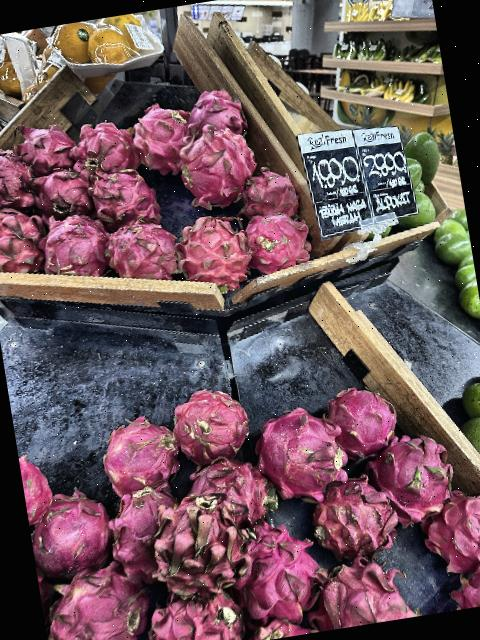buah-naga-matang: (148, 494, 261, 607), (75, 398, 189, 503), (252, 396, 354, 510), (230, 520, 330, 626), (174, 449, 286, 538), (362, 436, 462, 532), (30, 487, 121, 582), (306, 376, 404, 462), (306, 476, 402, 563), (174, 118, 264, 209), (99, 212, 194, 298), (174, 208, 260, 302), (166, 375, 252, 469), (48, 566, 153, 640), (107, 488, 186, 580), (85, 162, 173, 238), (65, 104, 141, 184), (36, 210, 115, 284), (123, 96, 195, 176), (241, 204, 320, 276), (419, 492, 480, 578), (232, 158, 304, 225), (29, 154, 99, 222), (0, 200, 50, 282), (10, 122, 77, 183), (190, 78, 248, 140), (0, 137, 40, 223)
